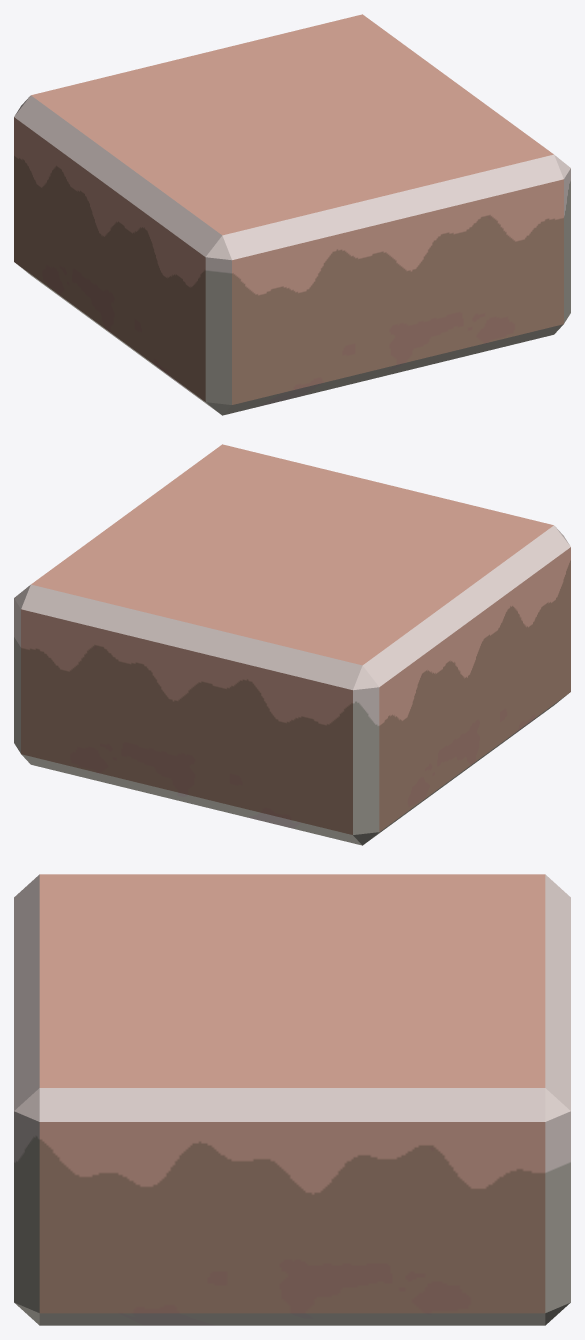
The model's file is R4B_HalfBlock_LOD1.glb.
3 views of the same model, one above another, from view 1: azimuth 30°, elevation 25°; view 2: azimuth 150°, elevation 25°; view 3: azimuth 270°, elevation 25° (orthographic). The views are drawn at different scales.
Visible parts, largest first — view 1: R4B_HalfBlock_LOD1; view 2: R4B_HalfBlock_LOD1; view 3: R4B_HalfBlock_LOD1.
Boxes of the visible parts, x1,y1,x2,y2 form: R4B_HalfBlock_LOD1: (14, 14, 570, 415); R4B_HalfBlock_LOD1: (14, 444, 570, 845); R4B_HalfBlock_LOD1: (14, 874, 570, 1325).
Size of the model in its own units: 0.52 by 0.245 by 0.52.
Materials: 2 (2 with a texture image).
